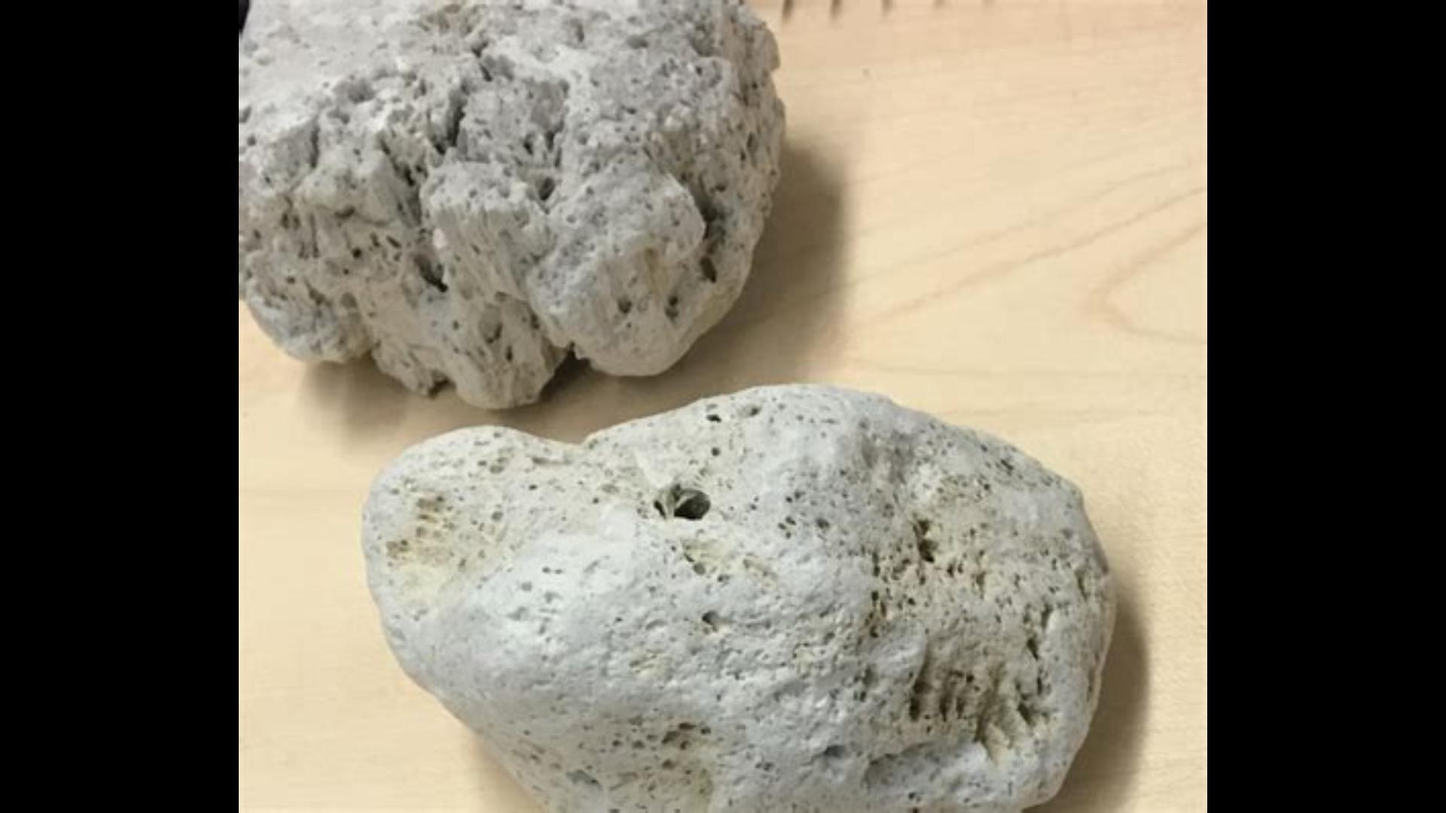rock: (363, 388, 1111, 809), (239, 1, 789, 400)
